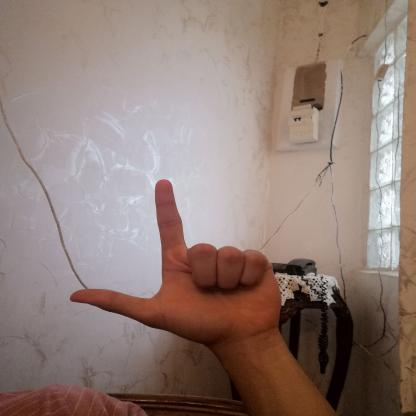LAAM: (52, 167, 309, 357)
